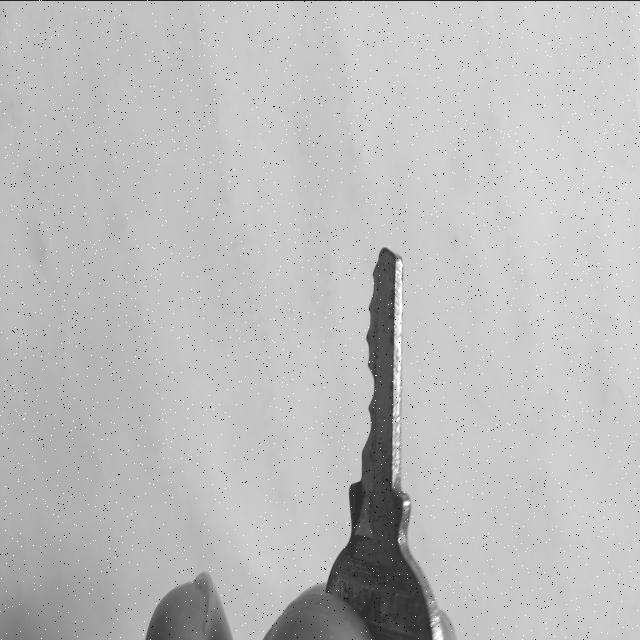key: (326, 247, 444, 640)
